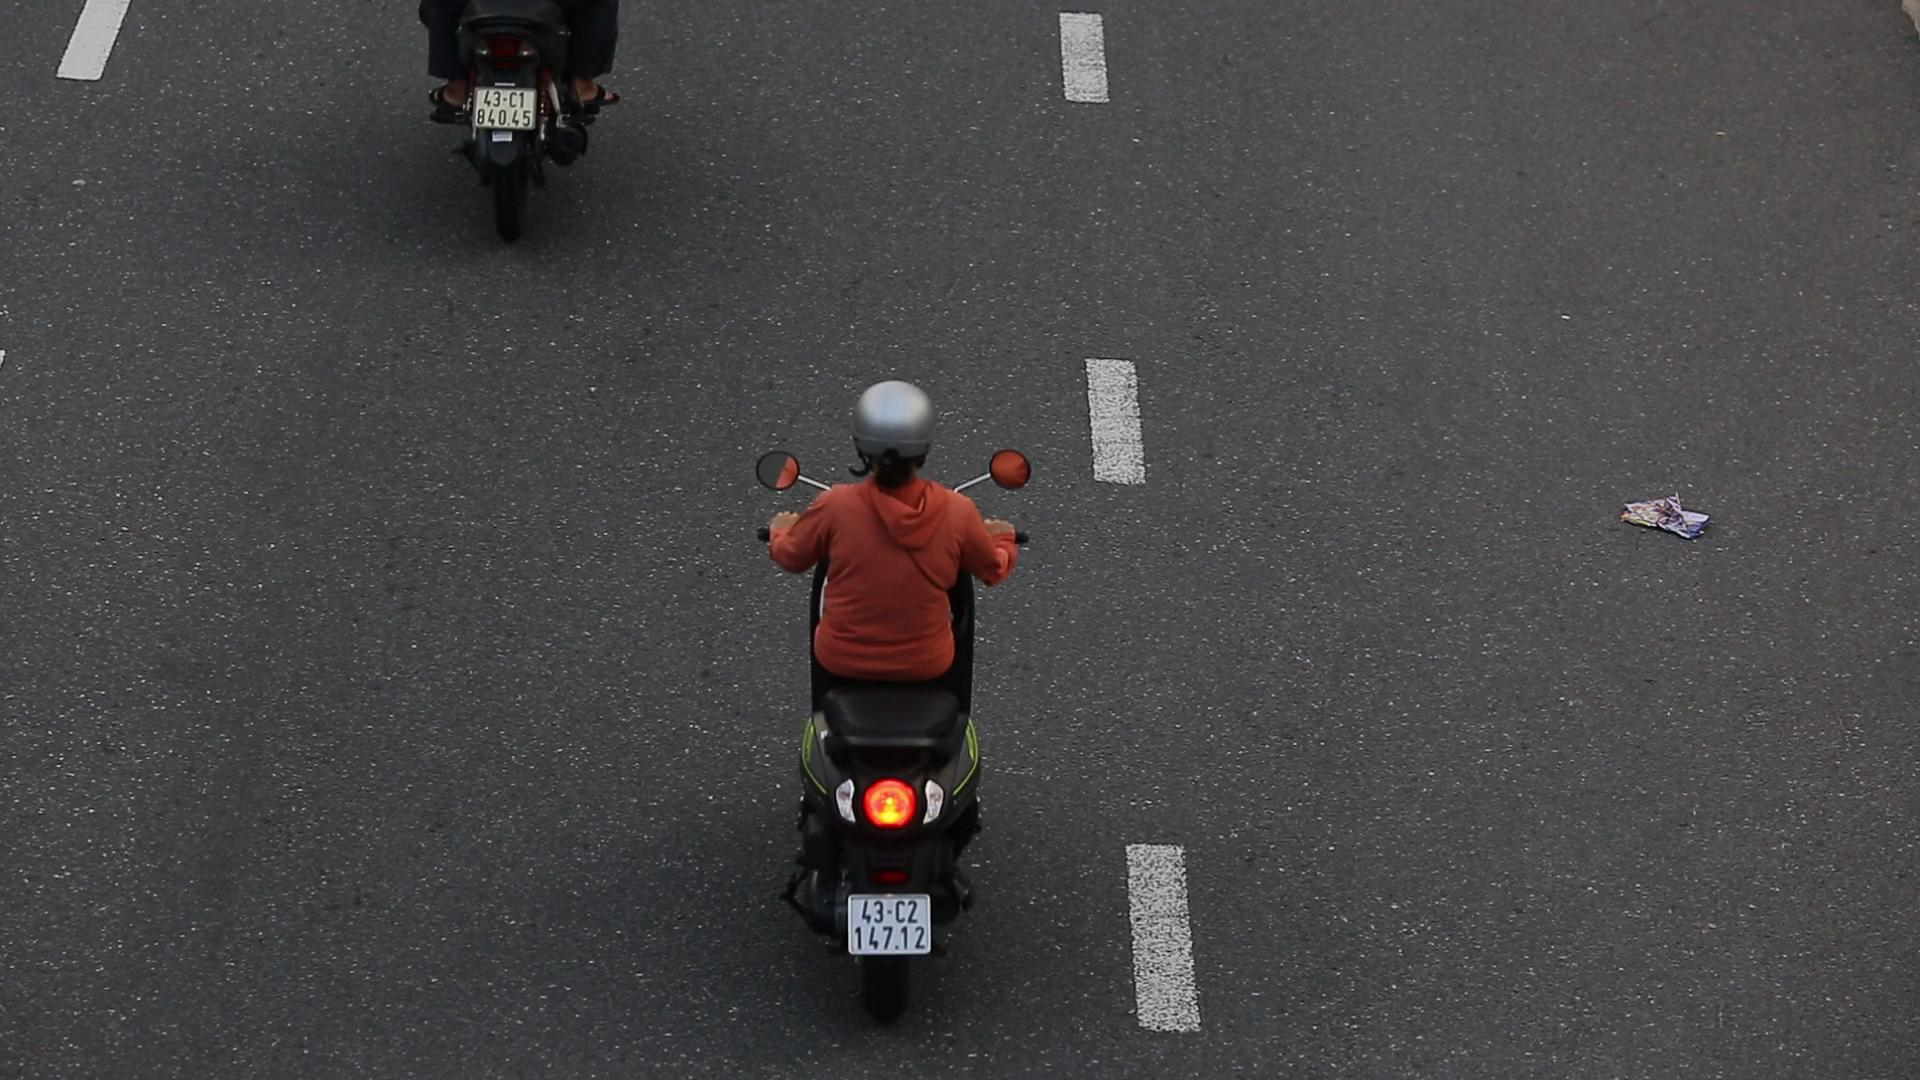motobike: (744, 359, 1038, 1010)
